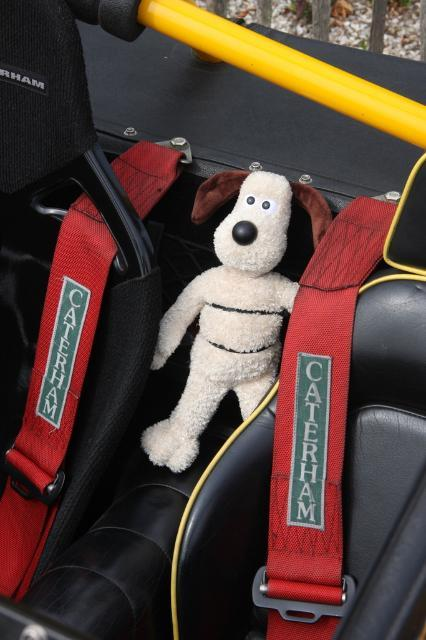Seatbelt: (0, 136, 182, 602), (248, 188, 400, 640)
